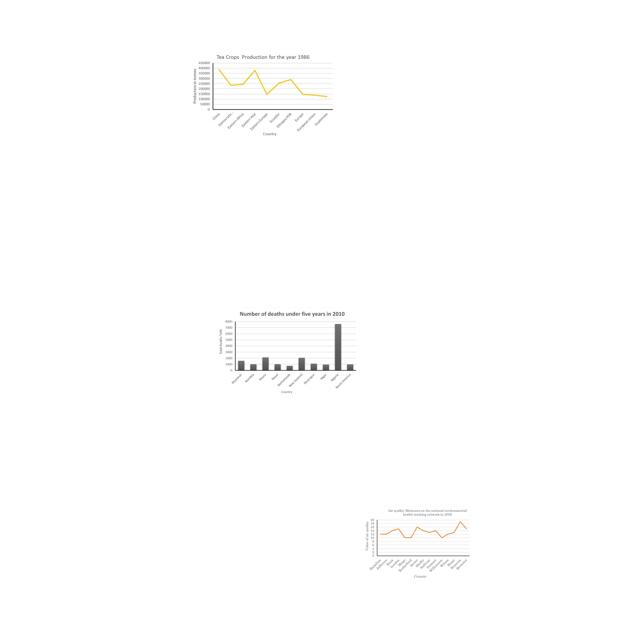Graph: (216, 307, 360, 399), (191, 52, 335, 137), (363, 506, 472, 580)
